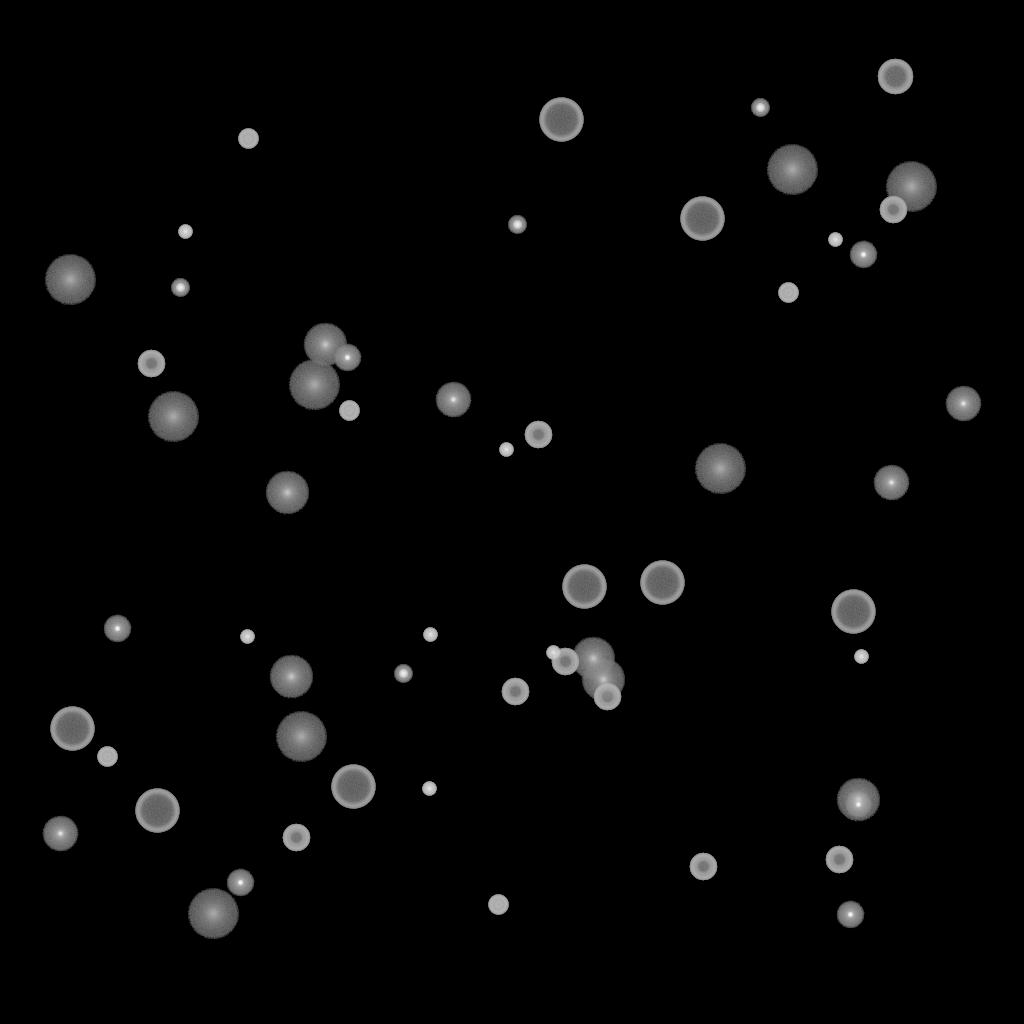depth:-10: (333, 344, 361, 372), (103, 615, 131, 643), (836, 901, 864, 929), (844, 791, 872, 819), (849, 241, 877, 269), (226, 869, 254, 897)
depth:-20: (751, 99, 769, 117), (171, 279, 189, 297), (394, 665, 412, 683), (508, 216, 526, 234)
depth:-30: (178, 225, 192, 239), (240, 630, 254, 644), (854, 650, 868, 664), (546, 646, 560, 660), (423, 628, 437, 642), (828, 233, 842, 247), (422, 782, 436, 796), (499, 443, 513, 457)
depth:-40: (488, 895, 508, 915), (778, 283, 798, 303), (97, 747, 117, 767), (339, 401, 359, 421), (238, 129, 258, 149)
depth:-50: (501, 678, 529, 706), (524, 421, 552, 449), (689, 853, 717, 881), (593, 683, 621, 711), (825, 846, 853, 874), (551, 648, 579, 676), (282, 824, 310, 852), (879, 196, 907, 224), (137, 350, 165, 378)
depth:-60: (877, 59, 913, 95)
depth:-70: (640, 561, 684, 605), (539, 98, 583, 142), (135, 789, 179, 833), (680, 197, 724, 241), (562, 565, 606, 609), (50, 707, 94, 751), (331, 765, 375, 809), (831, 590, 875, 634)
depth:0: (873, 465, 909, 501), (42, 816, 78, 852), (945, 386, 981, 422), (435, 382, 471, 418)
depth:10: (265, 471, 309, 515), (571, 637, 615, 681), (836, 778, 880, 822), (581, 658, 625, 702), (269, 655, 313, 699), (303, 323, 347, 367)
depth:20: (694, 444, 746, 494), (288, 360, 340, 410), (885, 162, 937, 212), (766, 145, 818, 195), (44, 255, 96, 305), (187, 889, 239, 939), (275, 712, 327, 762), (147, 392, 199, 442)
